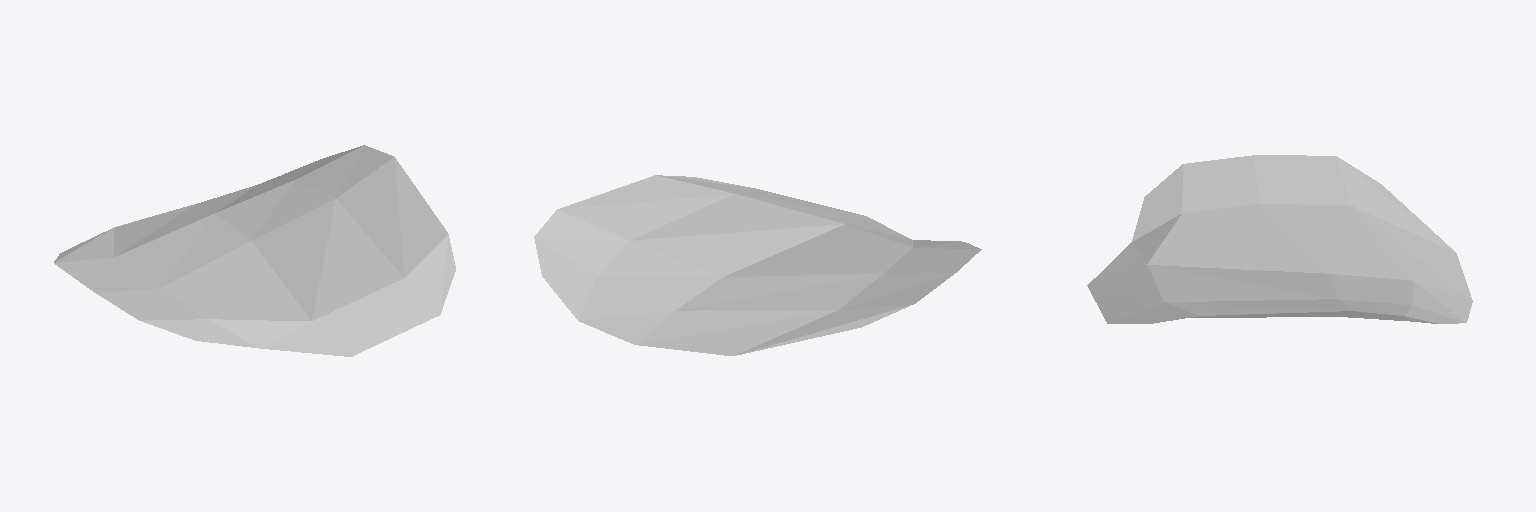
Rendered from Chip3.obj.
3 renders of one model, left to right at view 1: azimuth 30°, elevation 25°; view 2: azimuth 150°, elevation 25°; view 3: azimuth 270°, elevation 25°, orthographic.
Parts seen in each view (by area): view 1: Chip3; view 2: Chip3; view 3: Chip3.
Part boxes in pixels (left/top/right/bottom): Chip3: left=54, top=145, right=455, bottom=356; Chip3: left=534, top=175, right=981, bottom=355; Chip3: left=1087, top=155, right=1472, bottom=323.
Bounding box in the file's own units: 2.96 × 0.4894 × 2.83.